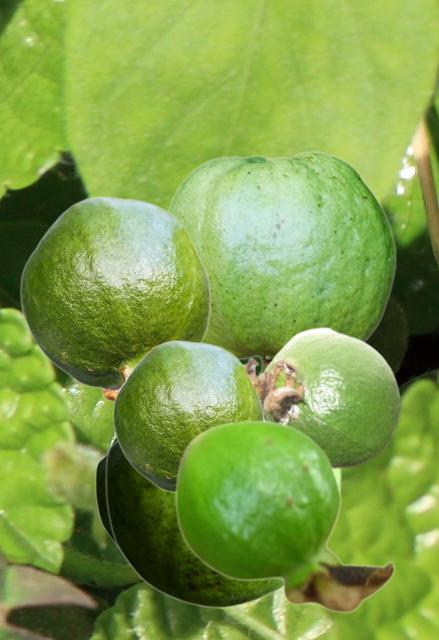guava: (165, 151, 396, 374), (174, 419, 395, 613), (19, 196, 210, 402), (105, 440, 340, 607), (112, 340, 263, 493), (243, 326, 401, 469), (95, 438, 115, 543)
